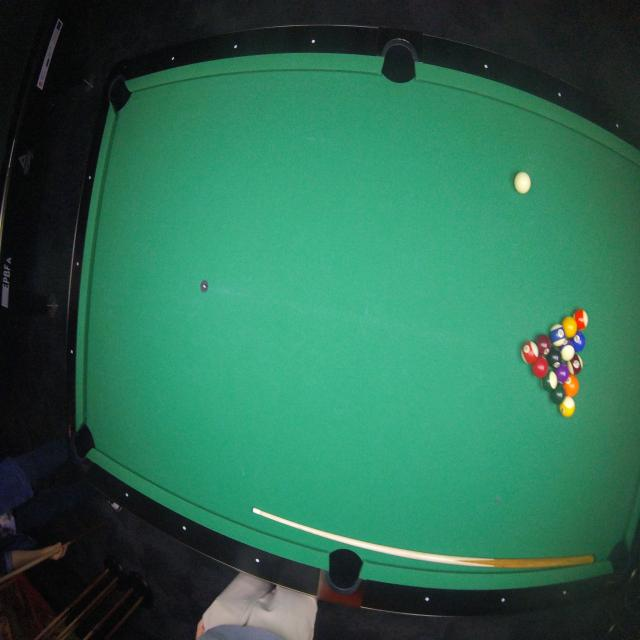cue ball: (514, 167, 533, 198)
other: (548, 323, 566, 348), (520, 341, 538, 365), (532, 355, 549, 380), (564, 373, 579, 399), (562, 316, 578, 340), (572, 308, 588, 331), (570, 331, 586, 353), (542, 370, 558, 392), (550, 383, 566, 405), (560, 396, 576, 418), (561, 338, 575, 362), (567, 355, 583, 376), (536, 334, 551, 356), (546, 347, 561, 369), (555, 362, 570, 384)
